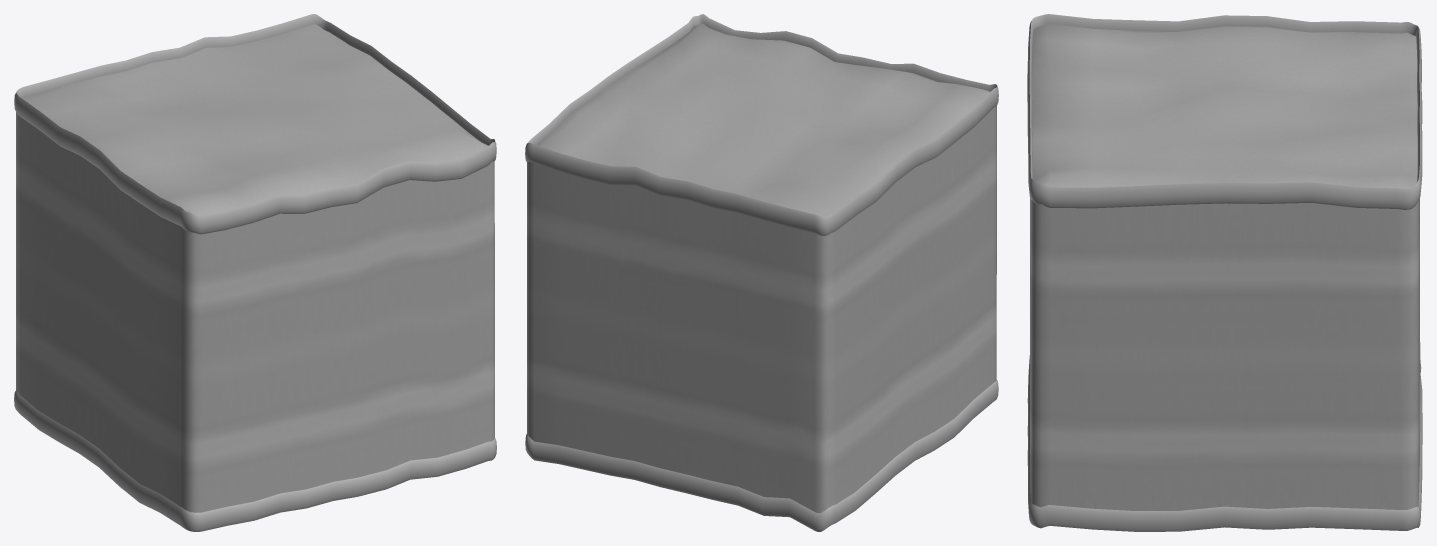
The model's file is matress.gltf.
The picture shows the model from 3 angles, left to right: view 1: azimuth 30°, elevation 25°; view 2: azimuth 150°, elevation 25°; view 3: azimuth 270°, elevation 25°; orthographic projection. The views are drawn at different scales.
Parts seen in each view (by area): view 1: matress-matress; view 2: matress-matress; view 3: matress-matress.
Boxes of the visible parts, x1=… form: matress-matress: x1=14, y1=14, x2=496, y2=531; matress-matress: x1=525, y1=14, x2=998, y2=531; matress-matress: x1=1027, y1=14, x2=1422, y2=531.
Bounding box in the file's own units: 1 × 1 × 1.
1 material, 1 textured.
